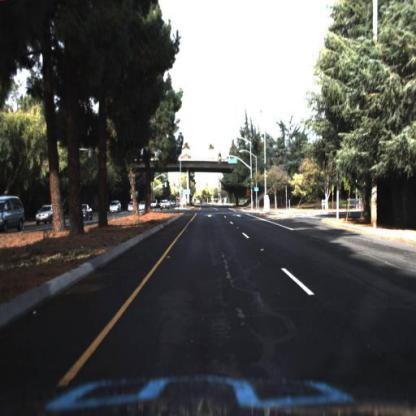car: (1, 195, 26, 234), (34, 205, 57, 226), (82, 201, 95, 224), (108, 199, 123, 217), (109, 200, 124, 215), (161, 197, 174, 211), (152, 196, 163, 212), (119, 195, 129, 211), (139, 202, 147, 214)
trafficLight-Yellow: (218, 149, 223, 170)
